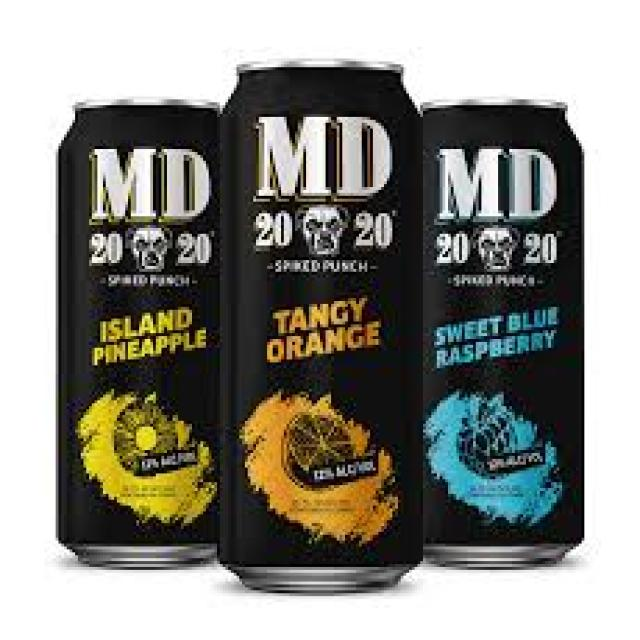Cans: (209, 50, 434, 599), (50, 90, 231, 572), (412, 93, 593, 573)
